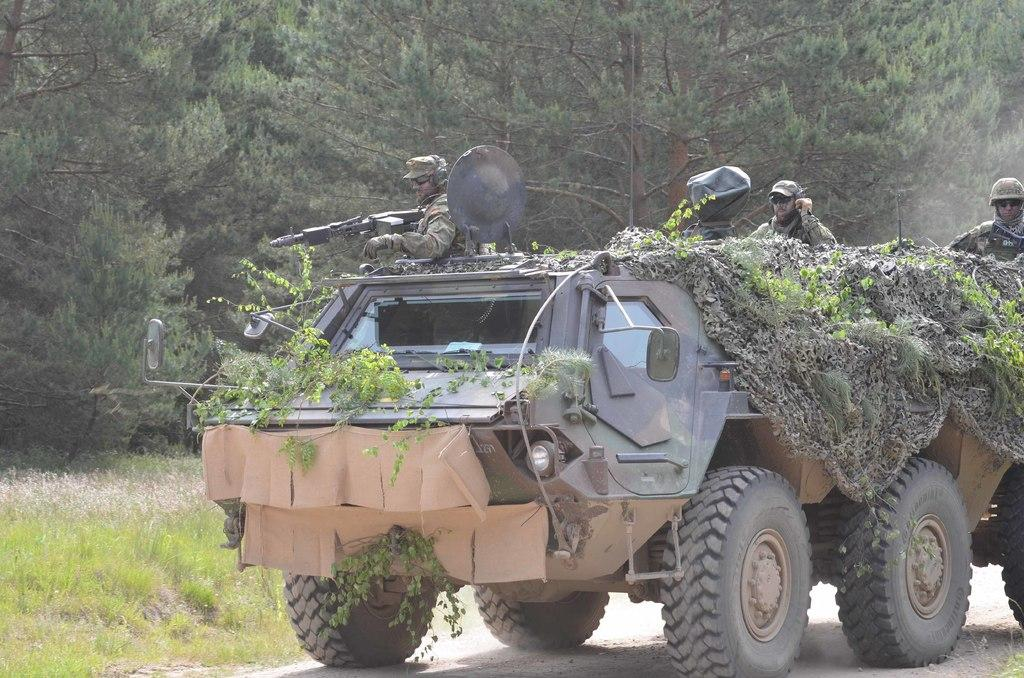non-violence: (363, 153, 450, 260), (945, 174, 1024, 267), (770, 172, 829, 260)
weapon: (266, 209, 423, 250)
